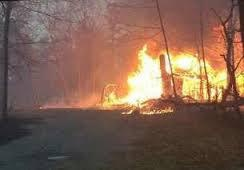fire: (99, 39, 238, 113)
